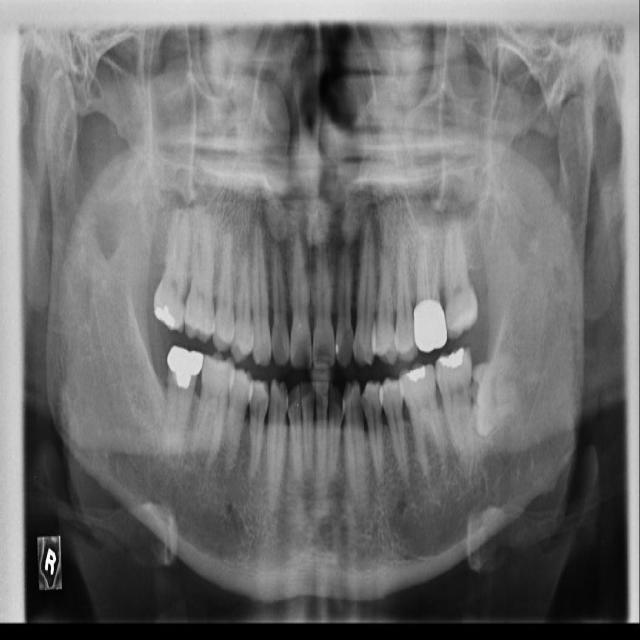52: (138, 277, 202, 339), (392, 357, 446, 410), (428, 345, 481, 397), (409, 297, 449, 355), (160, 341, 207, 383), (336, 322, 355, 368)
73: (620, 604, 628, 614)
BioHorizons Implant: (442, 202, 478, 340)
Biomet 3i Implant: (459, 351, 526, 440)
Blue Sky Bio Implant: (140, 343, 206, 462), (435, 347, 474, 473)
Caries: (152, 203, 191, 335)
